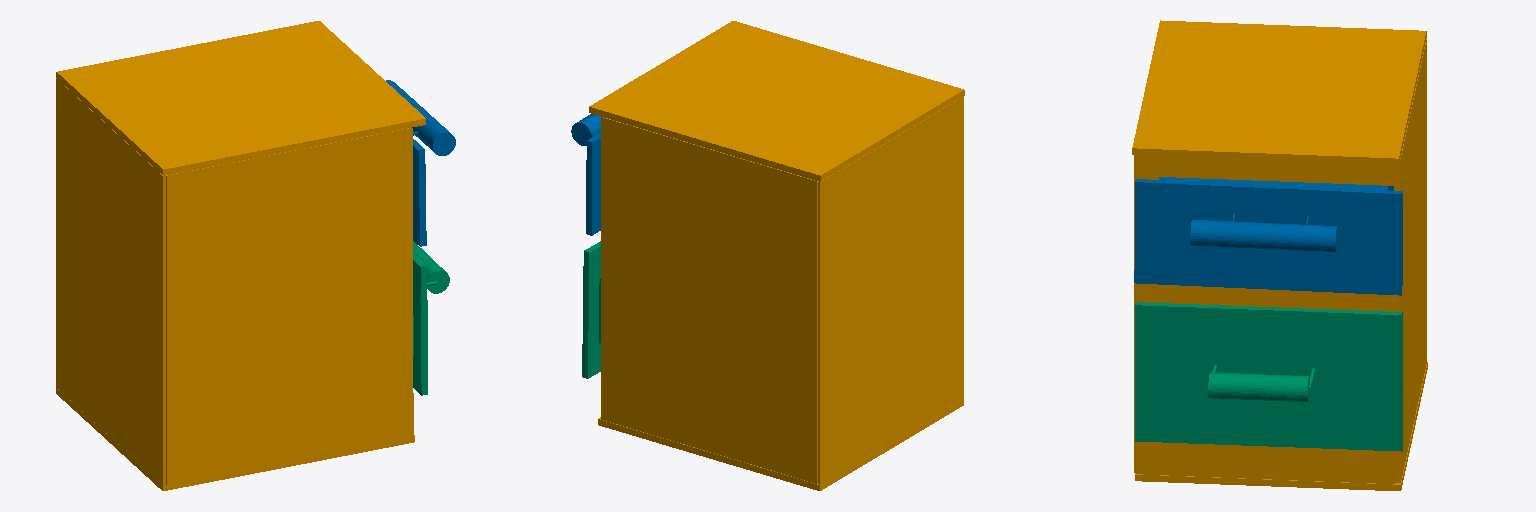
The robot description file, URDF, robot "ikeasmall":
<?xml version="1.0"?>
<robot name="ikeasmall">
  <link name ="rb0">
    <visual>
      <origin xyz='0.324047 0.127240 -0.485032' rpy='0.000000 -0.000000 -0.091336'/>
      <geometry>
        <mesh filename="meshes/ikeasmall_base.obj"  scale="1 1 1" />
      </geometry>
    </visual>

    <collision>
      <origin xyz='0.324047 0.127240 -0.485032' rpy='0.000000 -0.000000 -0.091336'/>
      <geometry>
        <mesh filename="meshes/ikeasmall_base.obj"  scale="1 1 1" />
      </geometry>
    </collision>

  </link>
  <joint name="j_0_1" type="prismatic">
    <parent link="rb0"/>
    <child link="rb1"/>
    <origin xyz="0.317014452934 -0.101373072037 -0.284843132653" rpy="0 0 0 "/>
    <axis xyz="0.99741799277 -0.0701691584626 0.0152851855914"/>
    <limit effort="30" velocity="1.0" lower="-3.1416" upper="3.1416"/>
  </joint>
  <joint name="j_0_fixed" type="fixed">
    <parent link="rb1"/>
    <child link="rb1_marker"/>
      <origin xyz="0.0 0.0 0.0" rpy="-1.56799789129 -0.0112948134925 0.0829534640087"/>
    <limit effort="30" velocity="1.0" lower="-3.1416" upper="3.1416"/>
  </joint>
  <joint name="j_0_2" type="prismatic">
    <parent link="rb0"/>
    <child link="rb2"/>
    <origin xyz="0.384509556453 0.267281678977 -0.161581733779" rpy="0 0 0 "/>
    <axis xyz="0.997356190876 -0.0721533805237 0.00863239250564"/>
    <limit effort="30" velocity="1.0" lower="-3.1416" upper="3.1416"/>
  </joint>
  <joint name="j_1_fixed" type="fixed">
    <parent link="rb2"/>
    <child link="rb2_marker"/>
      <origin xyz="0.0 0.0 0.0" rpy="0.0587565669364 -0.878115133503 -2.88162905702"/>
    <limit effort="30" velocity="1.0" lower="-3.1416" upper="3.1416"/>
  </joint>
  <link name ="rb1">
  </link>
  <link name ="rb1_marker">
    <visual>
      <origin xyz='0.047580 0.036959 0.195131' rpy='1.571474 0.183522 0.000124'/>
      <geometry>
        <mesh filename="meshes/ikeasmall_lower.obj"  scale="1 1 1" />
      </geometry>
    </visual>

     <collision>
      <origin xyz='0.047580 0.036959 0.195131' rpy='1.571474 0.183522 0.000124'/>
      <geometry>
        <mesh filename="meshes/ikeasmall_lower.obj"  scale="1 1 1" />
      </geometry>
    </collision>

  </link>
  <link name ="rb2">
  </link>
  <link name ="rb2_marker">
    <visual>
      <origin xyz='0.083138 0.151648 -0.047187' rpy='0.463764 -0.786860 2.560854'/>
      <geometry>
        <mesh filename="meshes/ikeasmall_upper.obj"  scale="1 1 1" />
      </geometry>
    </visual>

     <collision>
      <origin xyz='0.083138 0.151648 -0.047187' rpy='0.463764 -0.786860 2.560854'/>
      <geometry>
        <mesh filename="meshes/ikeasmall_upper.obj"  scale="1 1 1" />
      </geometry>
    </collision>

  </link>
</robot>

--- Render facts (derived) ---
Views: 3 orthographic renders of the robot side by side, from view 1: azimuth 30°, elevation 25°; view 2: azimuth 150°, elevation 25°; view 3: azimuth 270°, elevation 25°.
Robot: ikeasmall — 5 links, 4 joints (2 prismatic, 2 fixed); root link rb0; default pose: all joints at 0.
Visible links, largest first — view 1: rb0, rb1_marker, rb2_marker; view 2: rb0, rb1_marker, rb2_marker; view 3: rb0, rb1_marker, rb2_marker.
Boxes of the visible links, x1,y1,x2,y2 form: rb0: [56, 21, 425, 490]; rb1_marker: [413, 241, 449, 395]; rb2_marker: [386, 80, 455, 246]; rb0: [589, 21, 964, 490]; rb1_marker: [582, 241, 600, 378]; rb2_marker: [571, 114, 600, 235]; rb0: [1132, 20, 1427, 490]; rb1_marker: [1135, 302, 1402, 451]; rb2_marker: [1134, 177, 1402, 295].
Bounding box of the posed robot: 0.5024 × 0.385 × 0.4861 m (x, y, z).
Meshes: 3 distinct files referenced, 3 mesh visuals loaded (3 OBJ).